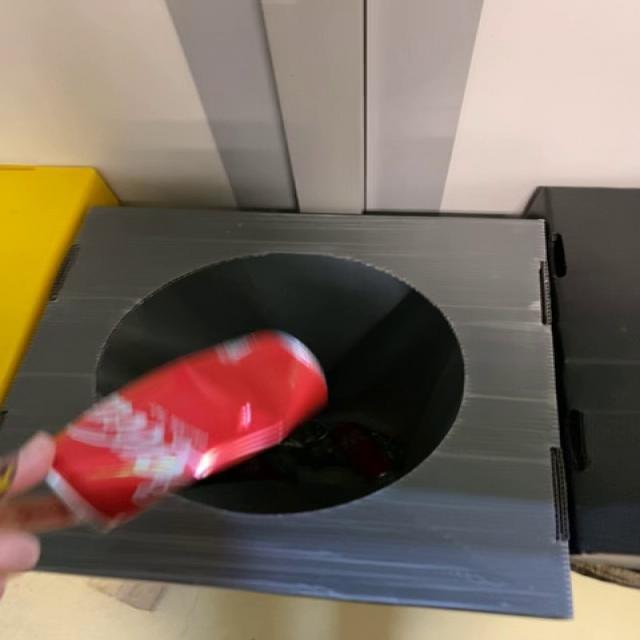Bin: (3, 209, 573, 618)
Metal: (47, 331, 328, 530)
